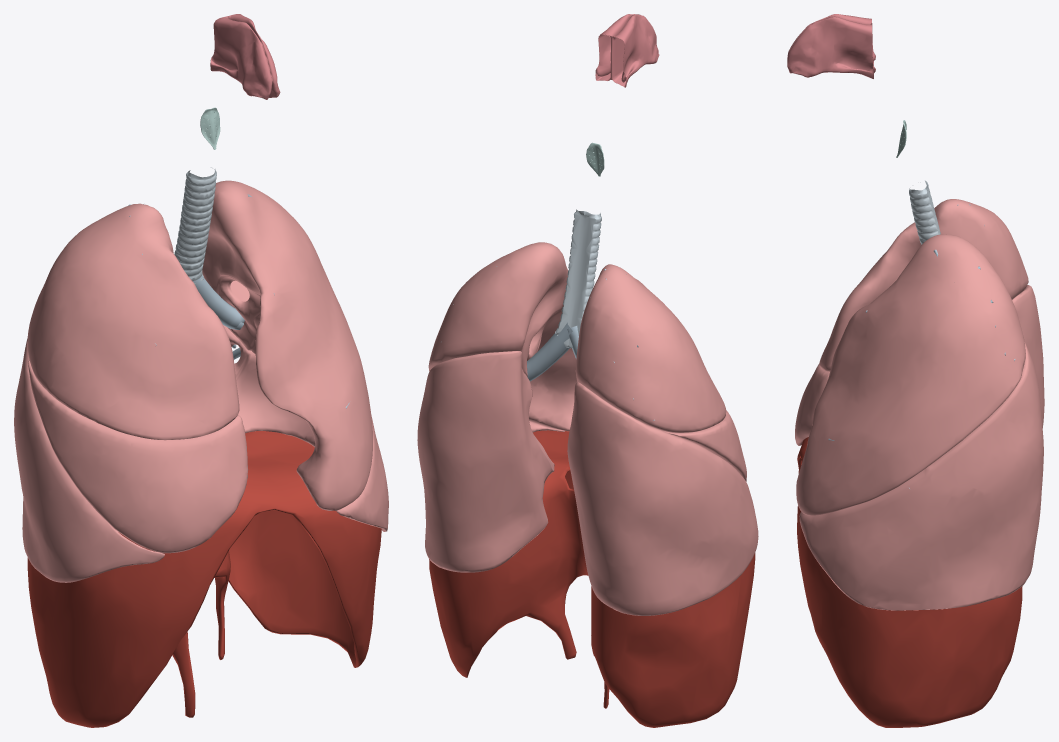
Rendered from respiratory.glb.
The picture shows the model from 3 angles, left to right: view 1: azimuth 30°, elevation 25°; view 2: azimuth 150°, elevation 25°; view 3: azimuth 270°, elevation 25°; orthographic projection. The views are drawn at different scales.
Parts seen in each view (by area): view 1: diaphragm, superior-lobe-of-right-lung, superior-lobe-of-left-lung, middle-lobe-of-right-lung, inferior-lobe-of-right-lung, inferior-lobe-of-left-lung, mucosa-of-nasal-cavity, trachea, left-main-bronchus, epiglottis; view 2: diaphragm, inferior-lobe-of-right-lung, inferior-lobe-of-left-lung, superior-lobe-of-right-lung, superior-lobe-of-left-lung, mucosa-of-nasal-cavity, trachea, middle-lobe-of-right-lung, left-main-bronchus; view 3: superior-lobe-of-left-lung, inferior-lobe-of-left-lung, diaphragm, superior-lobe-of-right-lung, mucosa-of-nasal-cavity, inferior-lobe-of-right-lung, middle-lobe-of-right-lung, trachea.
Part boxes in pixels (bbox=[...]): diaphragm: bbox=[27, 431, 381, 727]; superior-lobe-of-right-lung: bbox=[27, 203, 239, 440]; superior-lobe-of-left-lung: bbox=[202, 180, 372, 510]; middle-lobe-of-right-lung: bbox=[28, 360, 248, 553]; inferior-lobe-of-right-lung: bbox=[14, 338, 164, 582]; inferior-lobe-of-left-lung: bbox=[223, 280, 388, 531]; mucosa-of-nasal-cavity: bbox=[210, 14, 280, 99]; trachea: bbox=[174, 167, 216, 285]; left-main-bronchus: bbox=[193, 276, 240, 328]; epiglottis: bbox=[200, 107, 220, 149]; diaphragm: bbox=[429, 430, 755, 727]; inferior-lobe-of-right-lung: bbox=[567, 382, 758, 615]; inferior-lobe-of-left-lung: bbox=[417, 351, 564, 572]; superior-lobe-of-right-lung: bbox=[575, 264, 726, 432]; superior-lobe-of-left-lung: bbox=[428, 242, 576, 431]; mucosa-of-nasal-cavity: bbox=[595, 14, 659, 87]; trachea: bbox=[555, 209, 601, 348]; middle-lobe-of-right-lung: bbox=[662, 410, 746, 481]; left-main-bronchus: bbox=[527, 322, 572, 381]; superior-lobe-of-left-lung: bbox=[796, 234, 1025, 515]; inferior-lobe-of-left-lung: bbox=[799, 342, 1043, 610]; diaphragm: bbox=[797, 437, 1022, 727]; superior-lobe-of-right-lung: bbox=[819, 199, 1028, 371]; mucosa-of-nasal-cavity: bbox=[787, 14, 875, 78]; inferior-lobe-of-right-lung: bbox=[1012, 285, 1044, 427]; middle-lobe-of-right-lung: bbox=[795, 364, 829, 445]; trachea: bbox=[909, 180, 940, 244].
Size of the model in its own units: 0.261 by 0.5553 by 0.1914.
